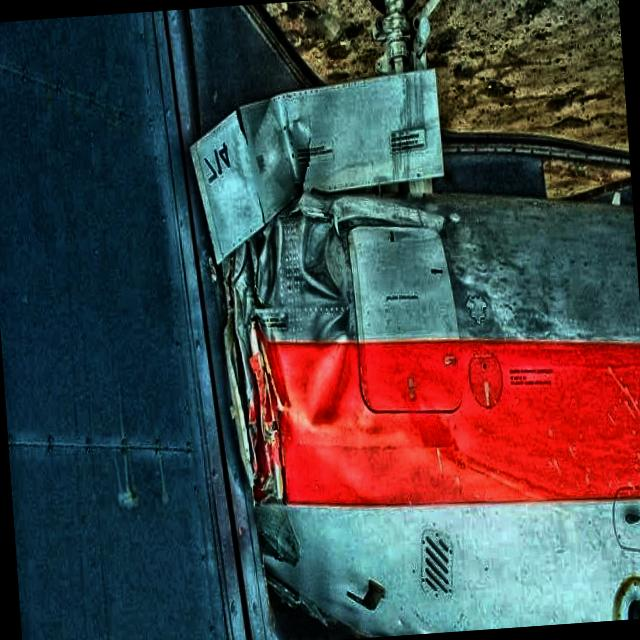dent: (288, 201, 362, 429)
